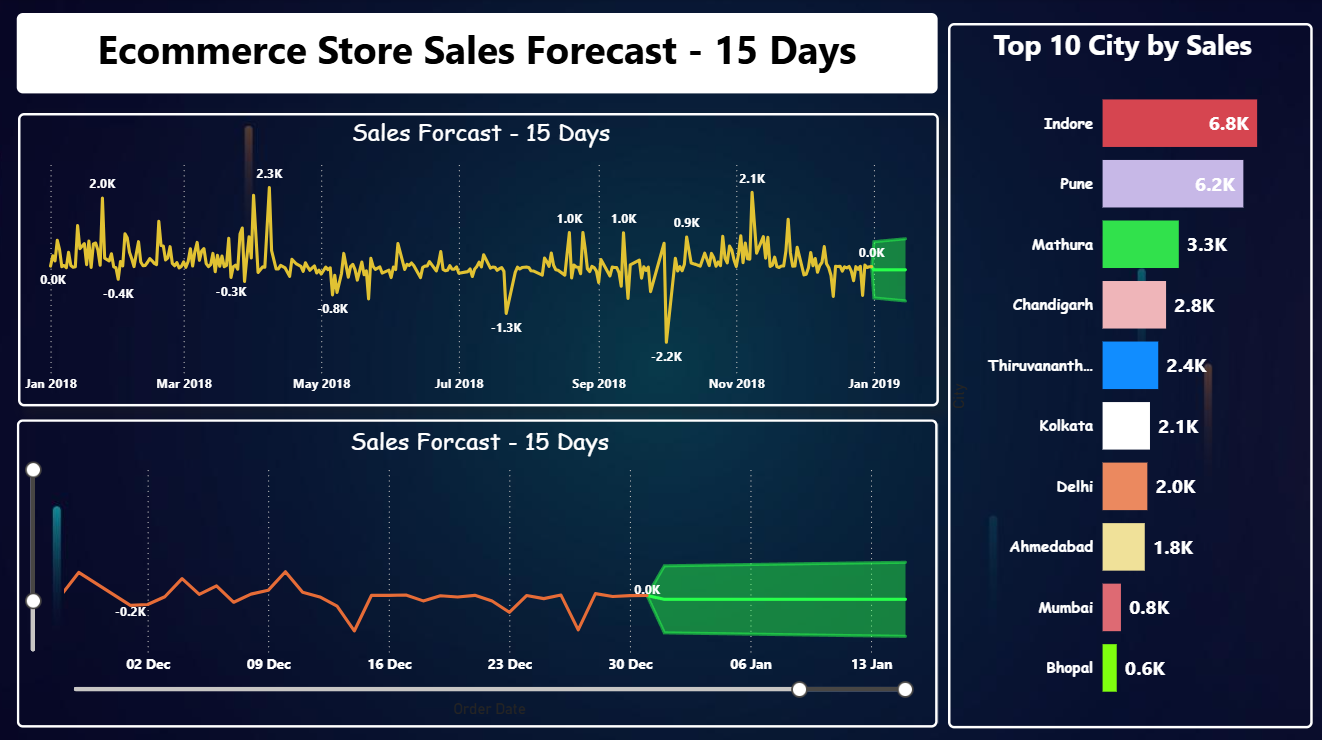

The dashboard page shown, as its layout file describes it:
{"tool":"powerbi","page":{"name":"Page 2","canvas":[1280,720],"ordinal":1},"visuals":[{"type":"lineChart","title":"Sales Forcast - 15 Days","fields":{"Y":["Sum(details.Profit)"],"Category":["orders.Order Date"]},"box":[19.3,111,889.1,283.5],"z":0},{"type":"lineChart","title":"Sales Forcast - 15 Days","fields":{"Y":["Sum(details.Profit)"],"Category":["orders.Order Date"]},"box":[18.1,406.6,889.1,298],"z":1000},{"type":"textbox","box":[18.1,14.5,889.1,77.2],"z":2000},{"type":"clusteredBarChart","title":"Top 10 City by Sales","fields":{"Category":["orders.City"],"Y":["Sum(details.Profit)"]},"box":[916.9,24.1,352.3,680.4],"z":3000}]}

Visuals, with their boxes in screenshot pixels (x1, y1, x2, y2), scaled from the page's 1280x720 canvas onto the 1322x740 screenshot:
"Sales Forcast - 15 Days" lineChart: bbox=(20, 114, 938, 405)
"Sales Forcast - 15 Days" lineChart: bbox=(19, 418, 937, 724)
textbox: bbox=(19, 15, 937, 94)
"Top 10 City by Sales" clusteredBarChart: bbox=(947, 25, 1311, 724)
